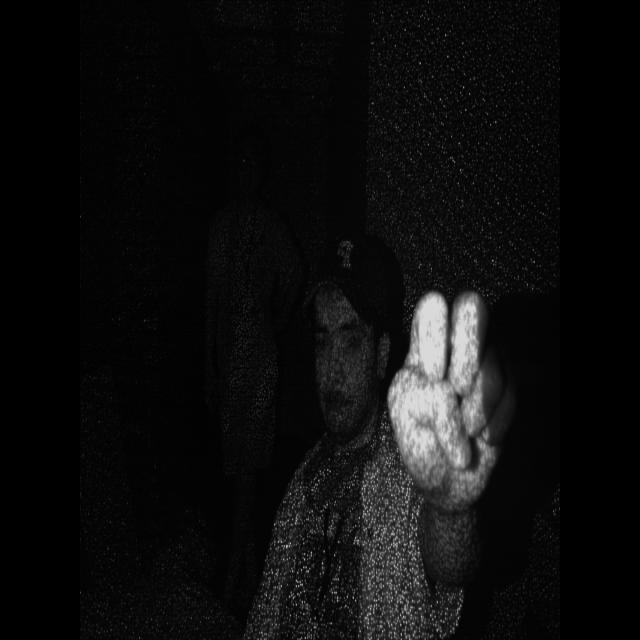S: (380, 264, 518, 507)
